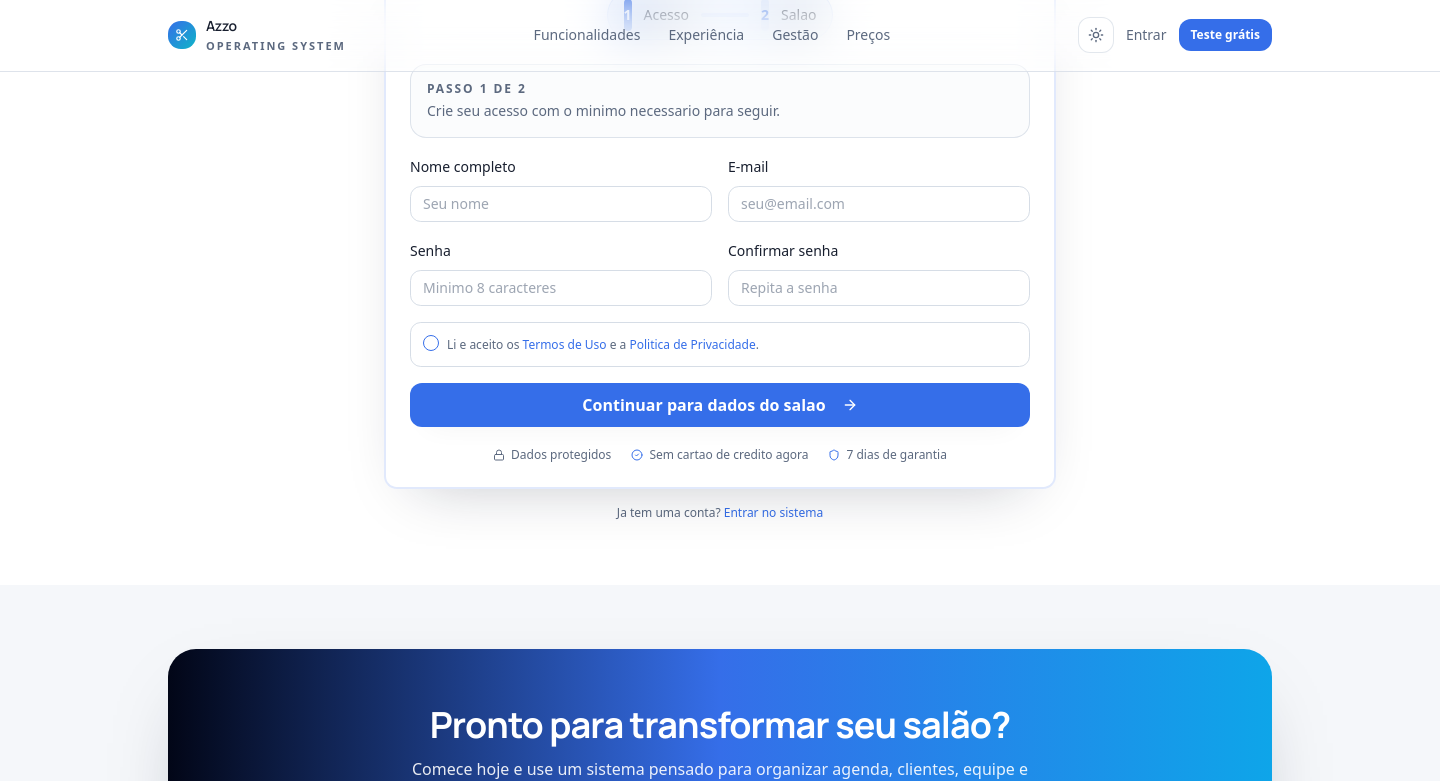
Scenario: SalePage › should show inline validation when required signup fields are missing
This screenshot has width=1440, height=781.
(page scrolled)
Click the button "Continuar para dados do salao" at (720, 405), box [410,383,1030,427]
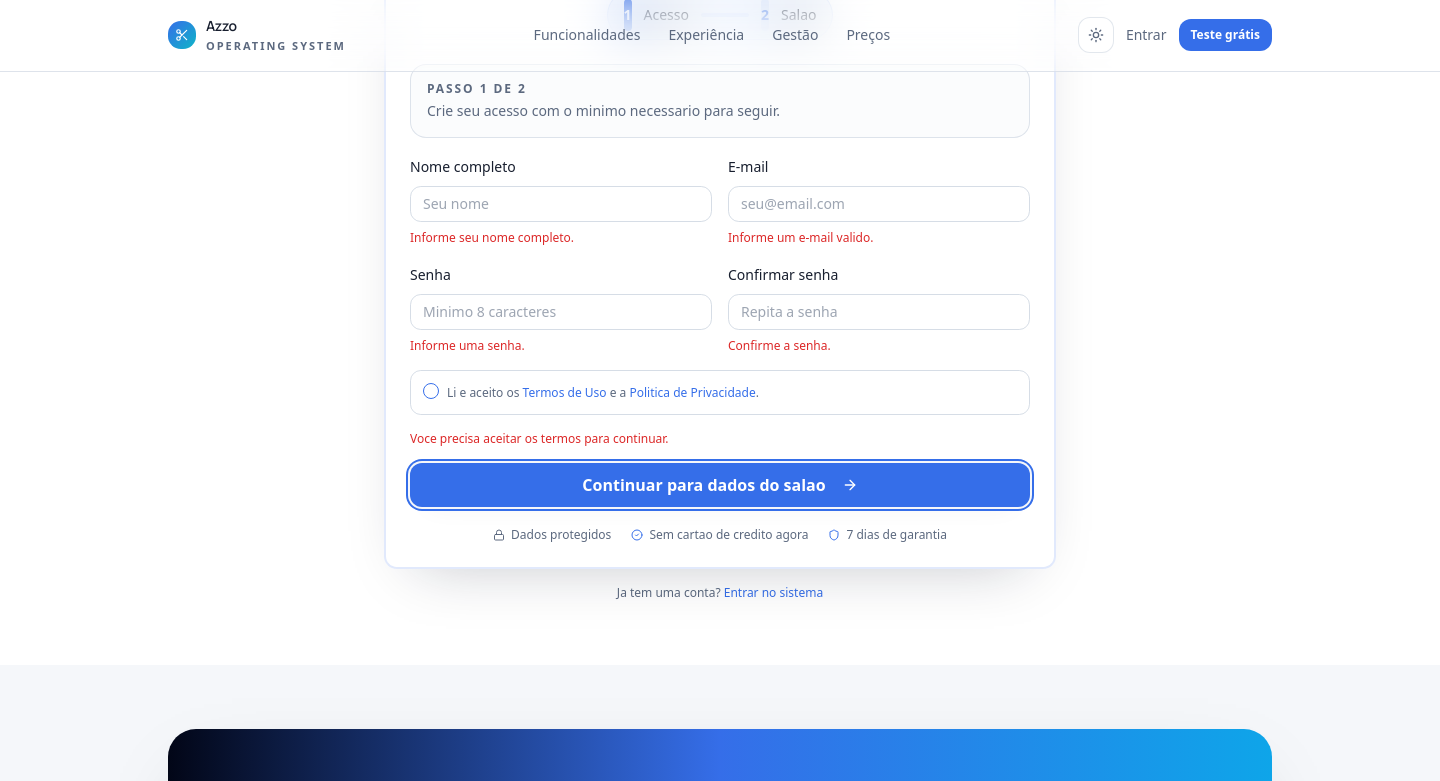
Expected: the text "Informe seu nome completo." is shown, [410,228,574,246]
Expected: the text "Informe um e-mail valido." is shown, [728,228,874,246]
Expected: the text "Informe uma senha." is shown, [410,336,525,354]
